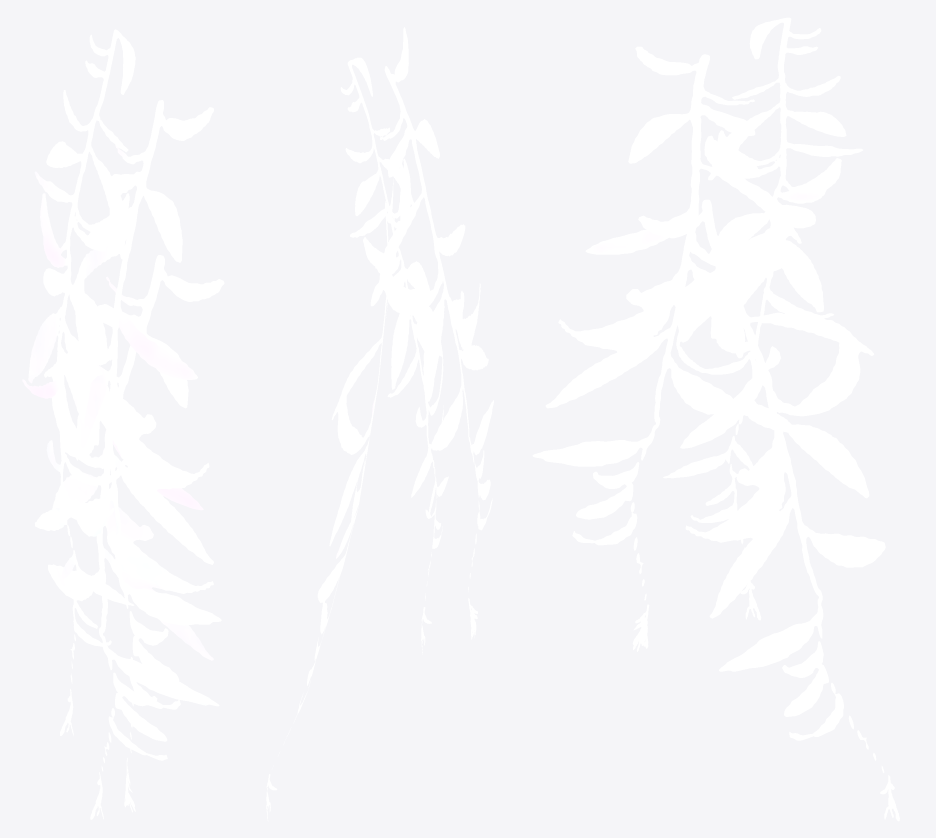
3 views of the same model, side by side, from view 1: azimuth 30°, elevation 25°; view 2: azimuth 150°, elevation 25°; view 3: azimuth 270°, elevation 25° (orthographic). The views are drawn at different scales.
Visible parts, largest first — view 1: SM_FH_Climbing_A_06_LOD0; view 2: SM_FH_Climbing_A_06_LOD0; view 3: SM_FH_Climbing_A_06_LOD0.
Part boxes in pixels (<box>): SM_FH_Climbing_A_06_LOD0: <box>22,29,224,819</box>; SM_FH_Climbing_A_06_LOD0: <box>266,27,493,821</box>; SM_FH_Climbing_A_06_LOD0: <box>532,17,899,821</box>.
Bounding box in the file's own units: 0.3733 × 2.04 × 0.9287.
1 material, 1 textured.
